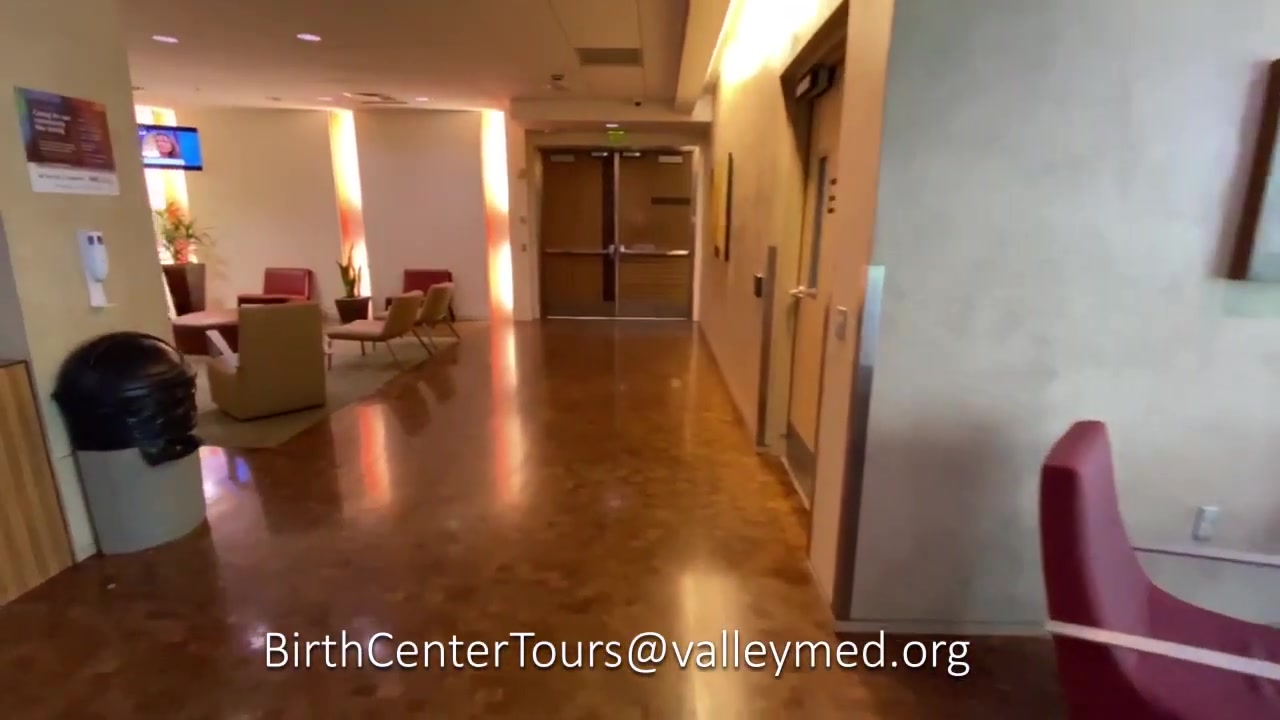TV: (140, 124, 205, 172)
dispenser: (76, 228, 118, 310)
door_handle: (788, 286, 811, 300)
push_latch: (626, 247, 689, 257), (542, 249, 608, 257)
sofa: (1039, 419, 1280, 720), (208, 301, 334, 421), (327, 291, 426, 371), (375, 284, 459, 349)
waste_bin: (50, 330, 208, 556)
